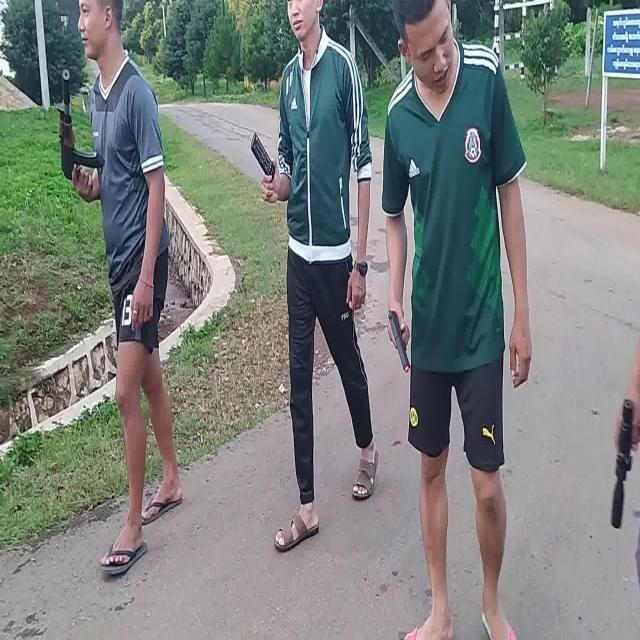gun: (59, 70, 105, 179), (387, 306, 411, 371)
